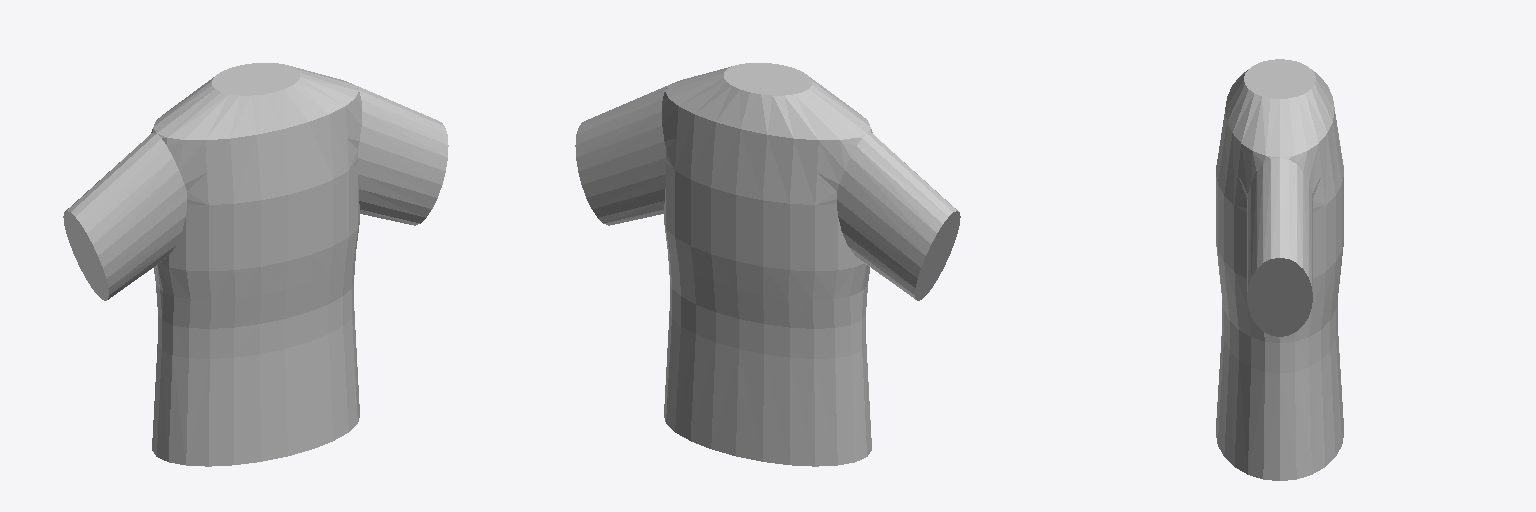
File: dum3.obj
3 renders of one model, left to right at view 1: azimuth 30°, elevation 25°; view 2: azimuth 150°, elevation 25°; view 3: azimuth 270°, elevation 25°, orthographic.
Parts seen in each view (by area): view 1: Mesh1 Model; view 2: Mesh1 Model; view 3: Mesh1 Model.
Part boxes in pixels (x1,y1,x2,y2): Mesh1 Model: (63, 63, 448, 466); Mesh1 Model: (575, 63, 960, 466); Mesh1 Model: (1216, 59, 1343, 480).
Size of the model in its own units: 25.44 by 23.19 by 7.65.